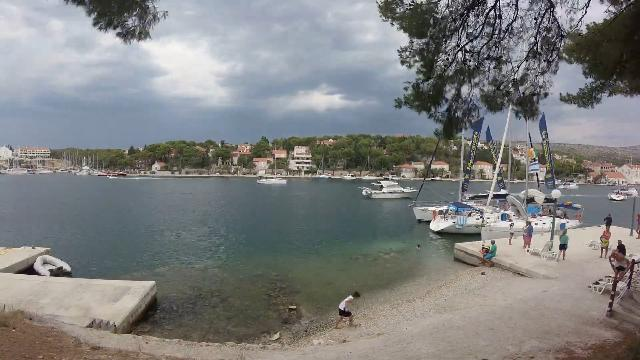Sailboat: (253, 172, 291, 188)
ferry: (357, 173, 421, 203)
